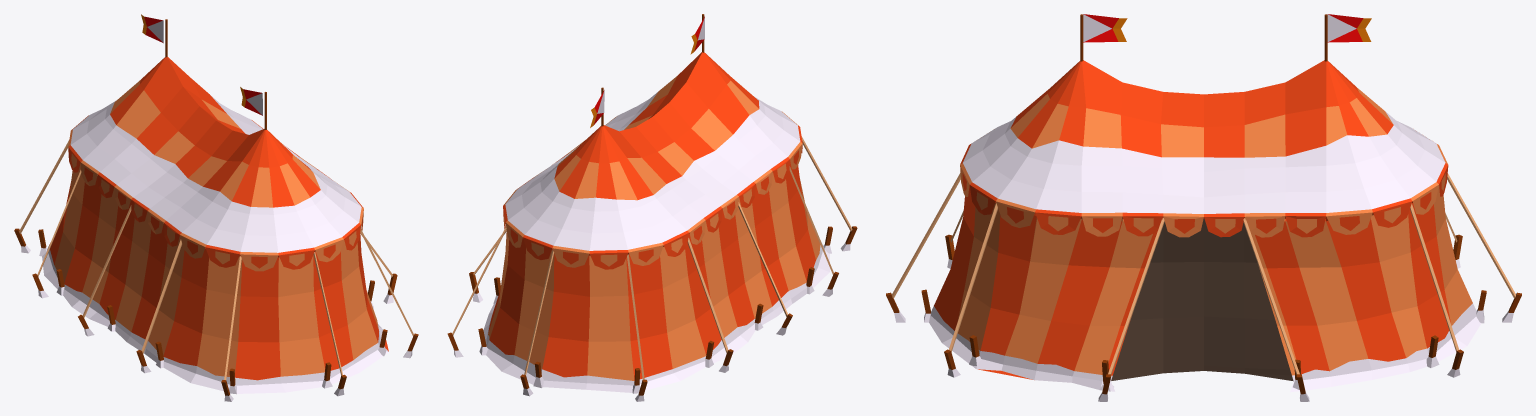
File: tent2.glb
The picture shows the model from 3 angles, left to right: view 1: azimuth 30°, elevation 25°; view 2: azimuth 150°, elevation 25°; view 3: azimuth 270°, elevation 25°; orthographic projection. The views are drawn at different scales.
Parts seen in each view (by area): view 1: Tent2; view 2: Tent2; view 3: Tent2.
Boxes of the visible parts, x1,y1,x2,y2 form: Tent2: (14, 14, 418, 401); Tent2: (447, 14, 857, 401); Tent2: (886, 14, 1521, 401).
Size of what is drawn, in the model's own units: 3.9 by 3.31 by 6.24.
Materials: 1 (1 with a texture image).
